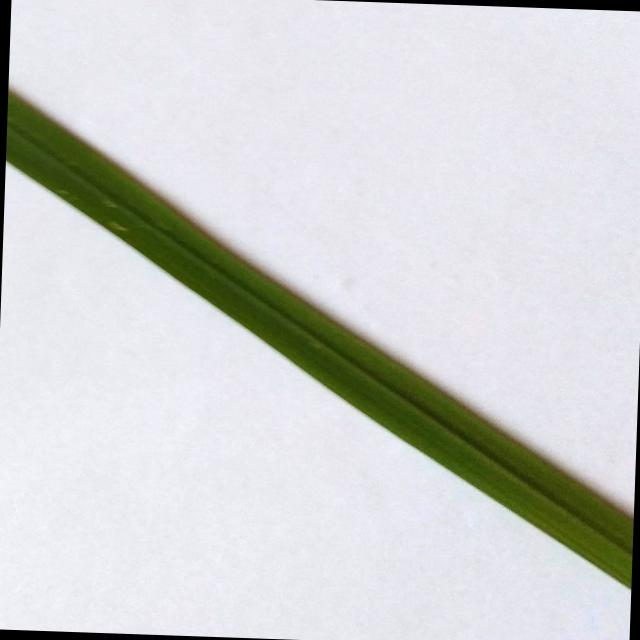Rice_Healthy: (5, 89, 633, 588)
